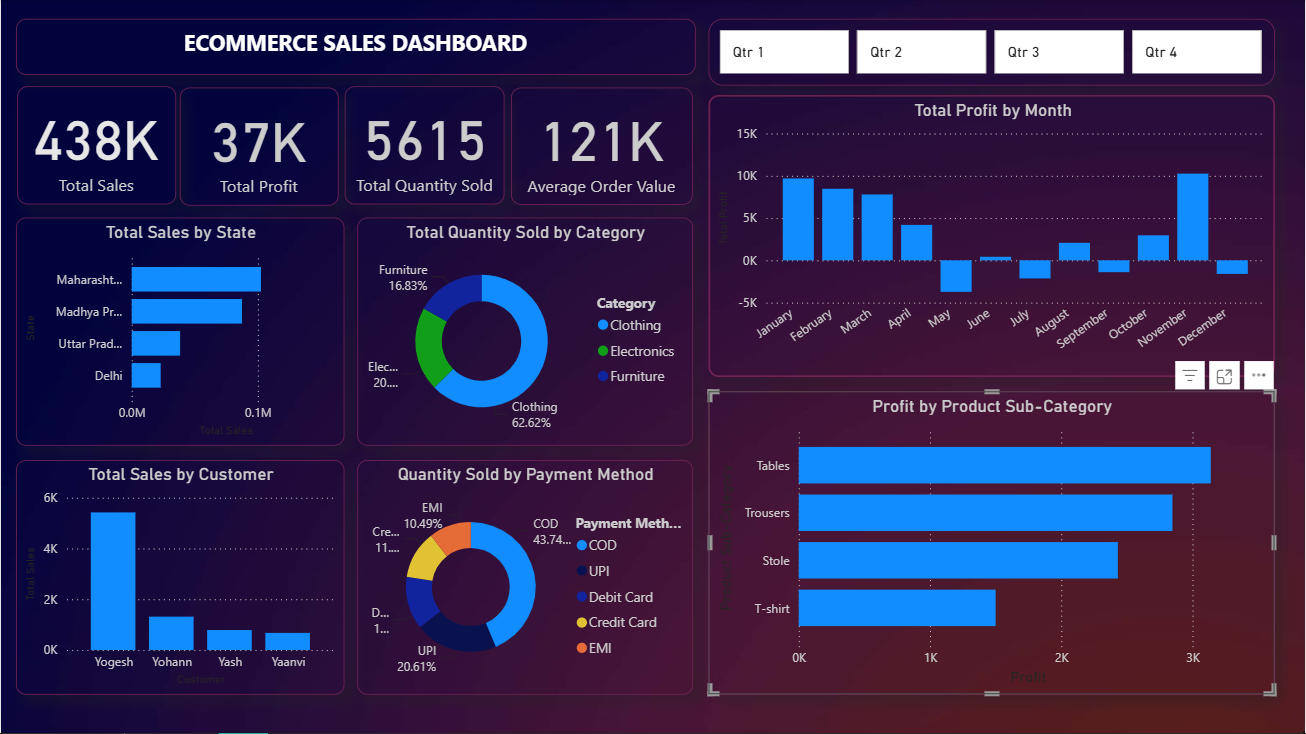

The dashboard page shown, as its layout file describes it:
{"tool":"powerbi","page":{"name":"Page 1","canvas":[1280,720],"ordinal":0},"visuals":[{"type":"barChart","fields":{"Y":["Sum(Details.Amount)"],"Category":["Orders.State"]},"box":[15.1,214.1,322.5,223.7],"z":0},{"type":"columnChart","fields":{"Y":["Sum(Details.Amount)"],"Category":["Orders.CustomerName"]},"box":[15.1,451.5,322.5,230.5],"z":1000},{"type":"donutChart","fields":{"Category":["Details.Category"],"Y":["Sum(Details.Quantity)"]},"box":[349.9,214.1,329.3,223.7],"z":2000},{"type":"donutChart","fields":{"Category":["Details.PaymentMode"],"Y":["Sum(Details.Quantity)"]},"box":[349.9,451.5,329.3,230.5],"z":3000},{"type":"barChart","fields":{"Category":["Details.Sub-Category"],"Y":["Sum(Details.Profit)"]},"box":[694.3,384.2,555.7,297.8],"z":4000},{"type":"clusteredColumnChart","fields":{"Category":["Orders.Order Date.Variation.Date Hierarchy.Month"],"Y":["Sum(Details.Profit)"]},"box":[694.3,93.3,555.7,277.2],"z":5000},{"type":"card","fields":{"Values":["Sum(Details.Amount)"]},"box":[15.7,84.3,155.7,115.7],"z":6000},{"type":"card","fields":{"Values":["Sum(Details.Profit)"]},"box":[175.9,86.1,155.7,115.7],"z":7000},{"type":"card","fields":{"Values":["Sum(Details.Quantity)"]},"box":[338,84.8,157.1,115.7],"z":8000},{"type":"card","fields":{"Values":["Sum(Details.AOV)"]},"box":[500.6,86.2,178.1,115],"z":9000},{"type":"textbox","box":[15.1,17.8,666.9,54.9],"z":10000},{"type":"advancedSlicerVisual","fields":{"Values":["Orders.Order Date.Variation.Date Hierarchy.Quarter"]},"box":[694.3,17.8,555.7,65.9],"z":11000}]}

Visuals, with their boxes in screenshot pixels (x1, y1, x2, y2), scaled from the page's 1280x720 canvas onto the 1306x734 screenshot:
barChart - Sum(Details.Amount) x Orders.State: Rect(15, 218, 344, 446)
columnChart - Sum(Details.Amount) x Orders.CustomerName: Rect(15, 460, 344, 695)
donutChart - Details.Category x Sum(Details.Quantity): Rect(357, 218, 693, 446)
donutChart - Details.PaymentMode x Sum(Details.Quantity): Rect(357, 460, 693, 695)
barChart - Details.Sub-Category x Sum(Details.Profit): Rect(708, 392, 1275, 695)
clusteredColumnChart - Orders.Order Date.Variation.Date Hierarchy.Month x Sum(Details.Profit): Rect(708, 95, 1275, 378)
card - Sum(Details.Amount): Rect(16, 86, 175, 204)
card - Sum(Details.Profit): Rect(179, 88, 338, 206)
card - Sum(Details.Quantity): Rect(345, 86, 505, 204)
card - Sum(Details.AOV): Rect(511, 88, 692, 205)
textbox: Rect(15, 18, 696, 74)
advancedSlicerVisual - Orders.Order Date.Variation.Date Hierarchy.Quarter: Rect(708, 18, 1275, 85)
